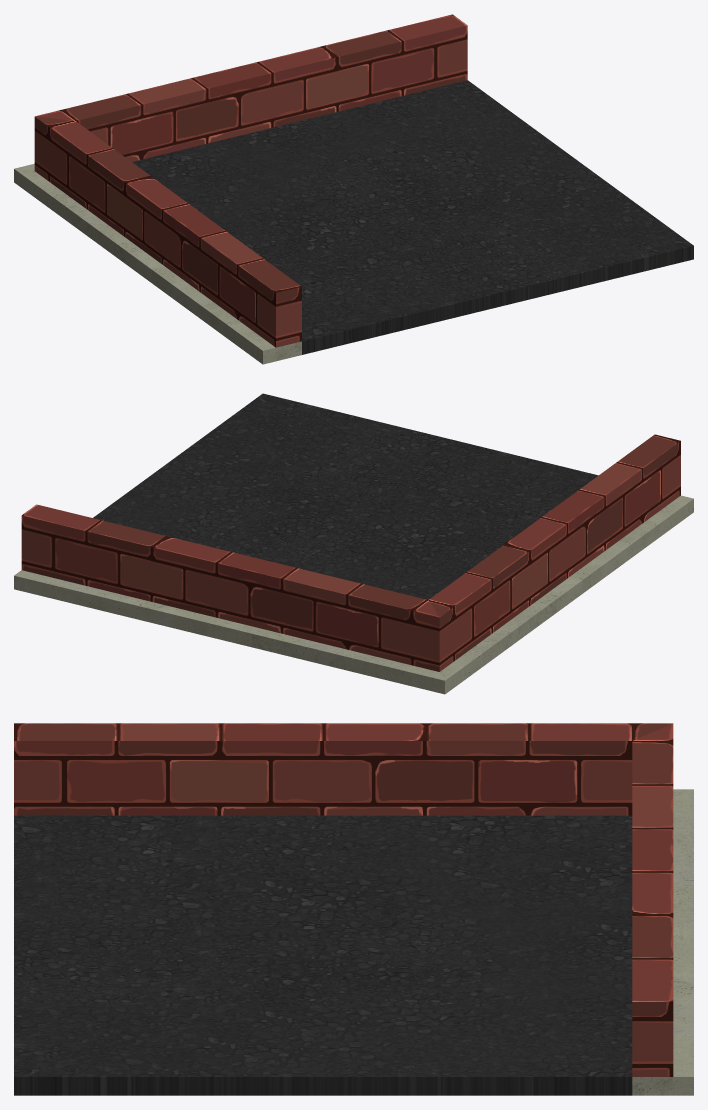
Rendered from roof02_corner.fbx.
3 views of the same model, one above another, from view 1: azimuth 30°, elevation 25°; view 2: azimuth 150°, elevation 25°; view 3: azimuth 270°, elevation 25° (orthographic). The views are drawn at different scales.
Visible parts, largest first — view 1: roof02_corner; view 2: roof02_corner; view 3: roof02_corner.
Boxes of the visible parts, left/top/right/bottom form: roof02_corner: left=14, top=14, right=693, bottom=364; roof02_corner: left=14, top=393, right=693, bottom=694; roof02_corner: left=14, top=723, right=693, bottom=1095.
Bounding box in the file's own units: 330 × 50 × 330.
